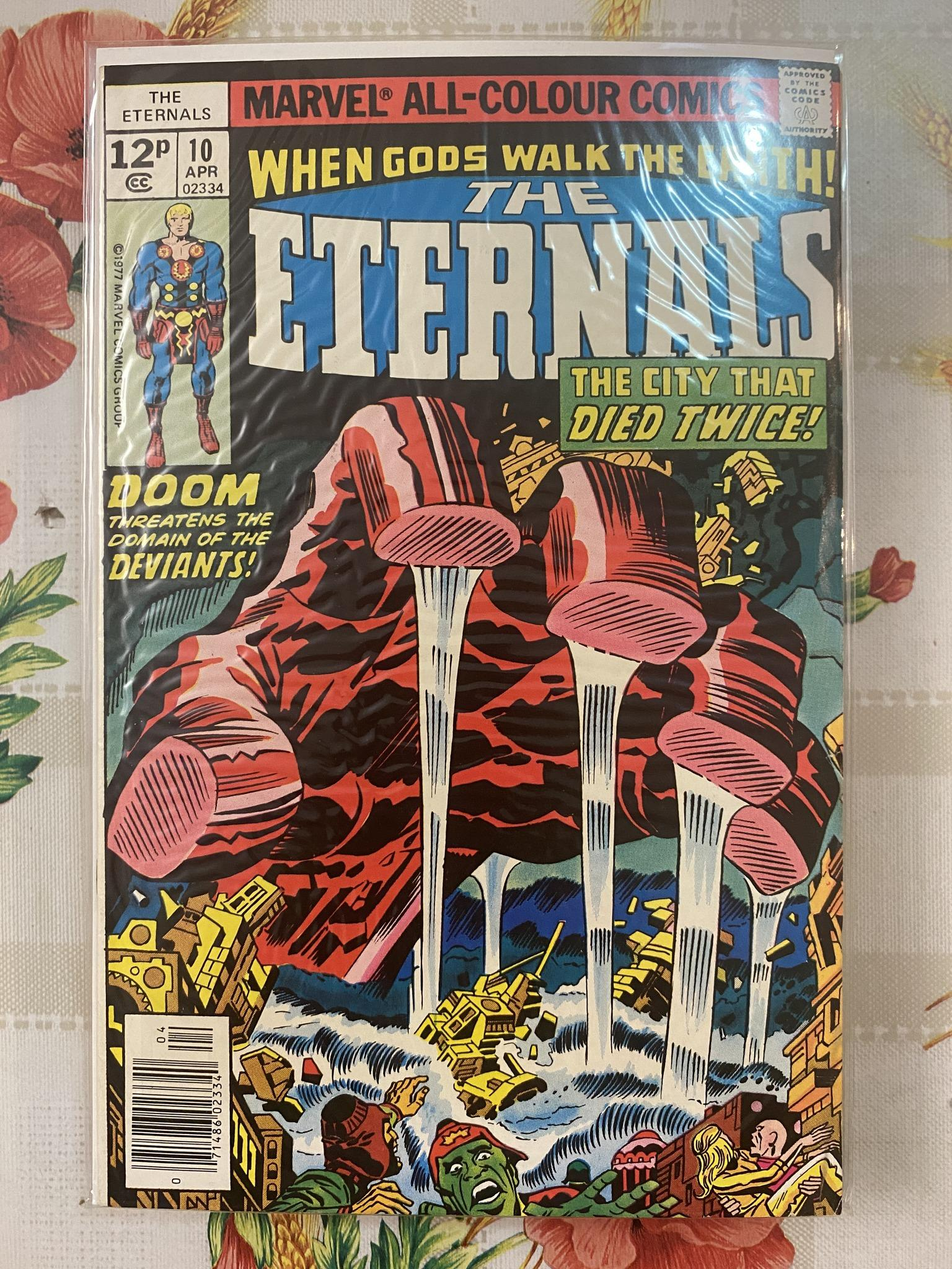comic: (89, 44, 843, 1217)
